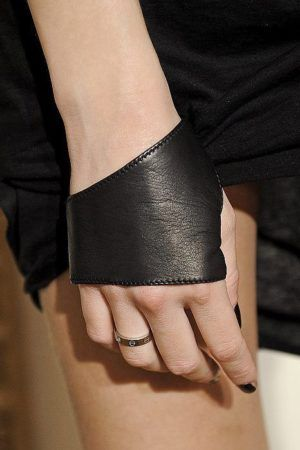cuero: (66, 118, 230, 284)
